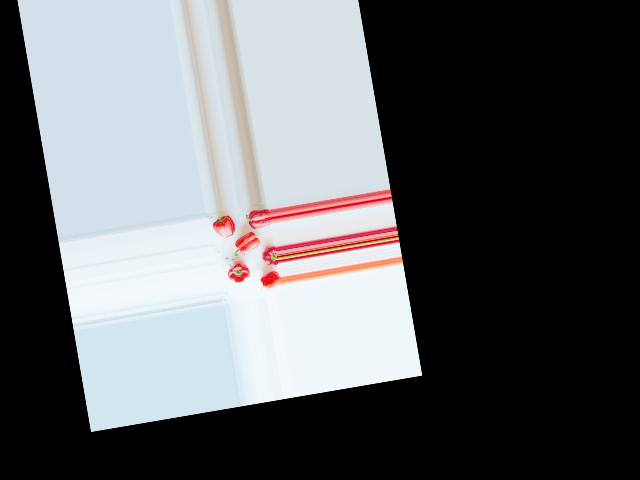bell_pepper: (259, 244, 278, 268)
